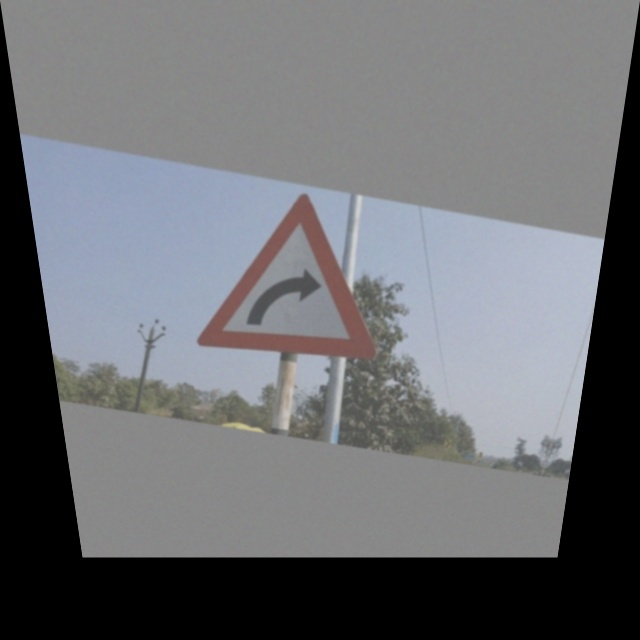Right_Hand_Curve: (192, 176, 402, 375)
